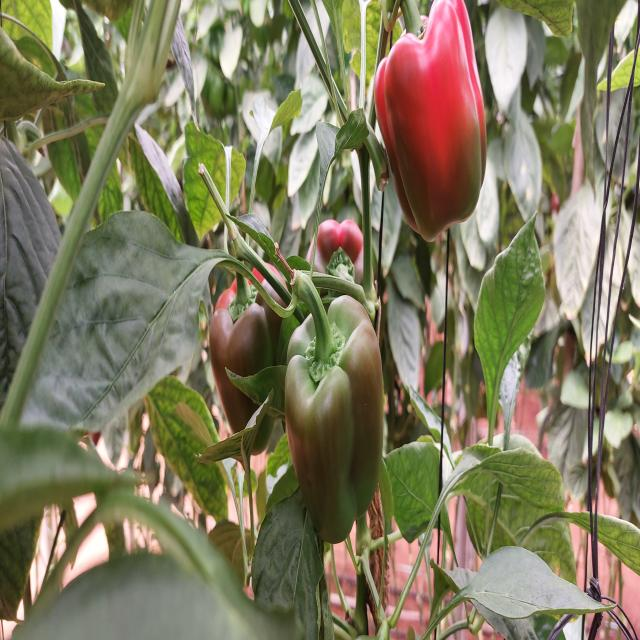BrownishRed--Can-be-Harvested: (287, 312, 389, 551), (207, 267, 283, 460)
Red-Ready-to-Harvest: (372, 1, 497, 250)
